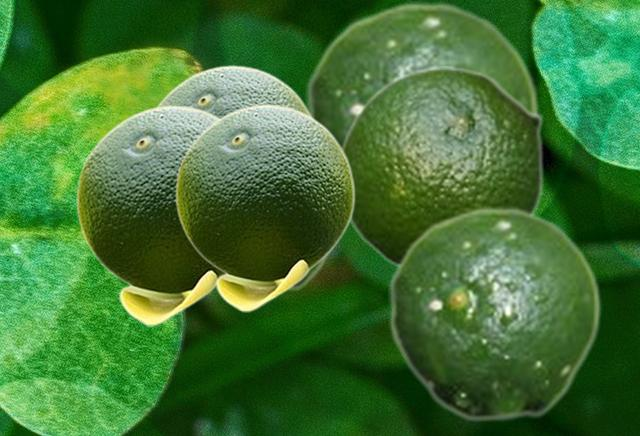calamansi: (388, 206, 601, 422), (339, 66, 544, 268), (175, 104, 354, 311), (305, 1, 539, 143), (76, 105, 220, 325), (156, 65, 315, 117)
